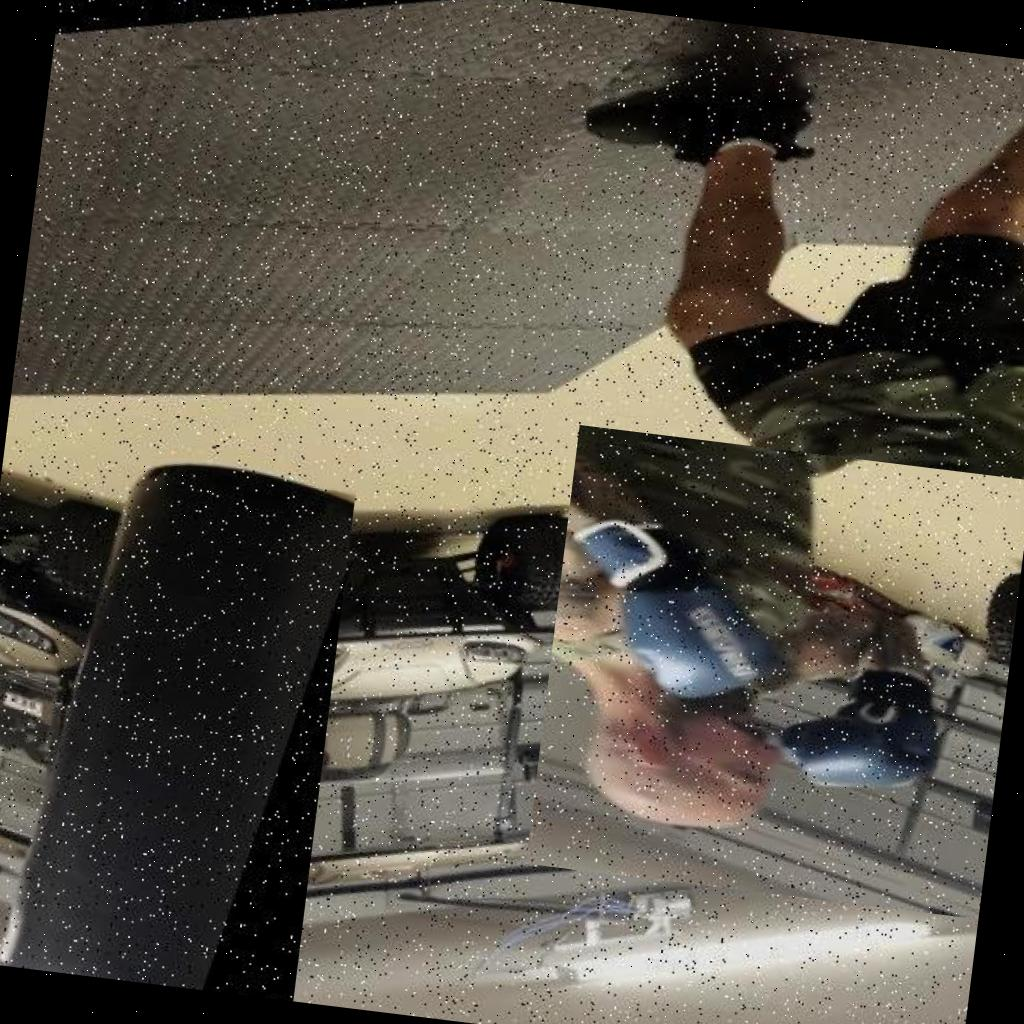bag: (0, 400, 359, 1001)
no punch: (525, 424, 1024, 918)
